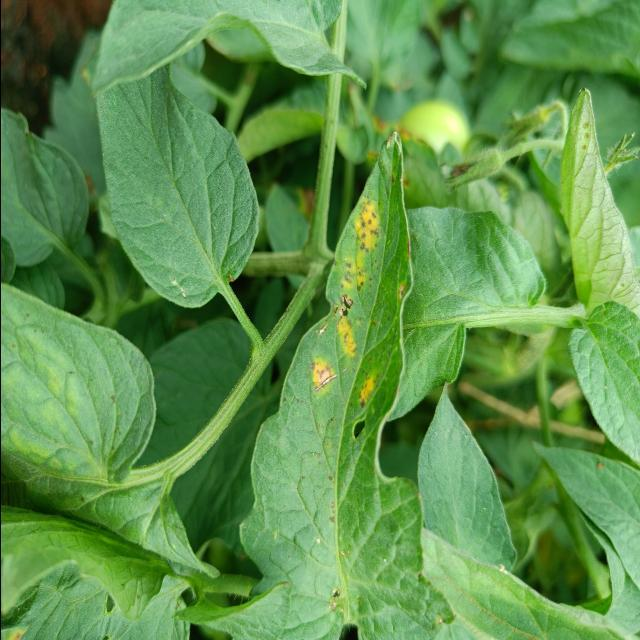Tomato mosaic virus leaf: (249, 124, 416, 488)
